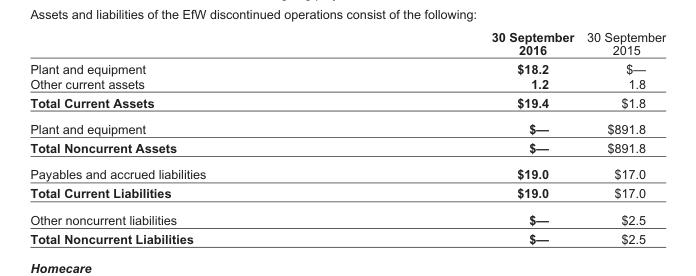table: (29, 29, 665, 245)
table column: (29, 29, 348, 245), (348, 29, 579, 245), (579, 29, 665, 245)
table column header: (29, 29, 665, 58)
table row: (29, 29, 665, 58), (29, 92, 665, 115), (29, 137, 665, 160), (29, 160, 665, 183), (29, 183, 665, 206), (29, 115, 665, 137), (29, 206, 665, 228), (29, 58, 665, 75), (29, 75, 665, 92), (29, 228, 665, 245)
